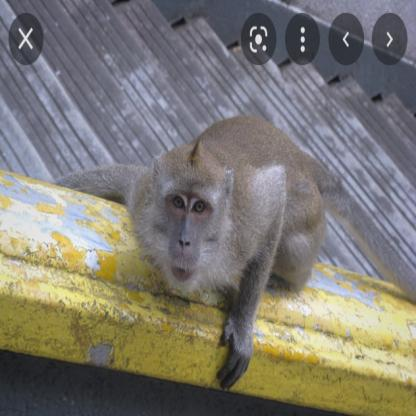monkey: (56, 105, 349, 384)
